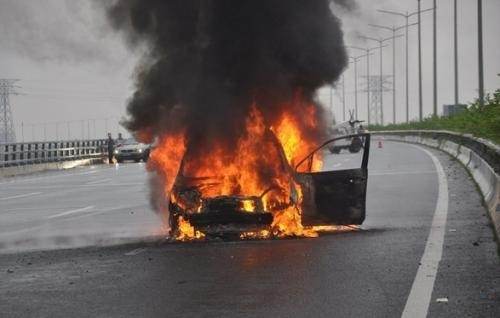fire: (145, 94, 336, 242)
